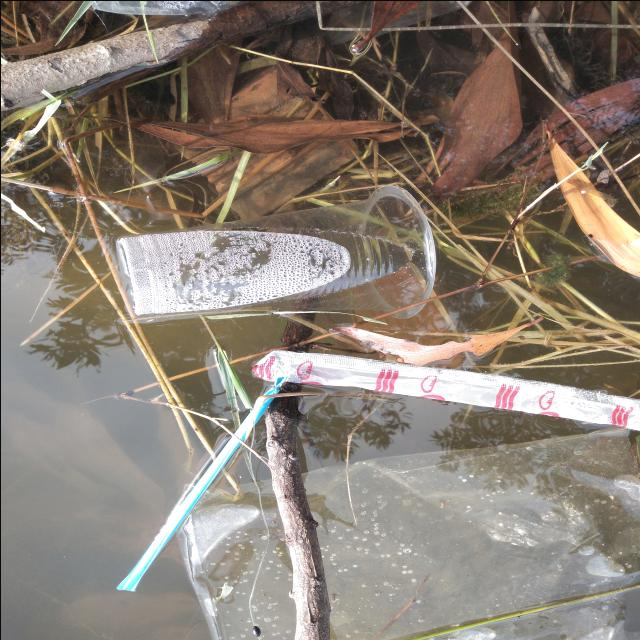Disposable plastic cup: (114, 185, 435, 322)
Plastic film: (176, 427, 639, 640), (251, 349, 640, 430), (323, 0, 472, 45), (91, 0, 249, 14)
Plastic straw: (115, 374, 288, 590)
